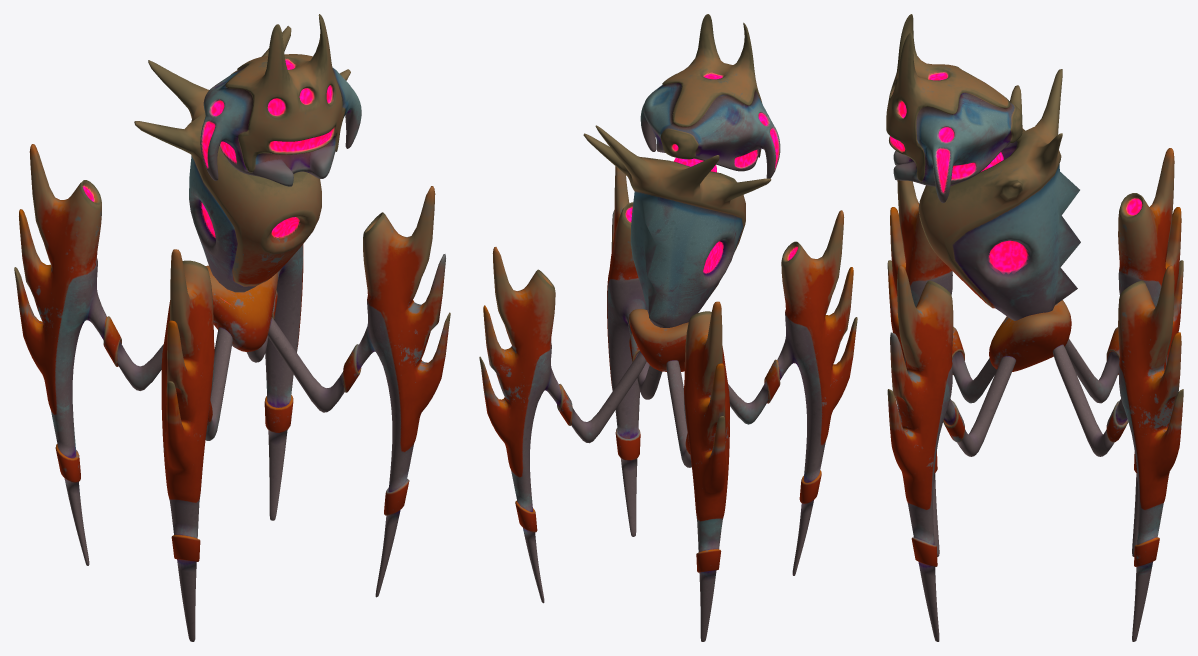
Rendered from v2rus_LOD_single.fbx.
The picture shows the model from 3 angles, left to right: view 1: azimuth 30°, elevation 25°; view 2: azimuth 150°, elevation 25°; view 3: azimuth 270°, elevation 25°; orthographic projection. The views are drawn at different scales.
Parts seen in each view (by area): view 1: v2rus_LOD0; view 2: v2rus_LOD0; view 3: v2rus_LOD0.
Boxes of the visible parts, x1=… form: v2rus_LOD0: x1=14, y1=14, x2=450, y2=641; v2rus_LOD0: x1=479, y1=14, x2=857, y2=641; v2rus_LOD0: x1=886, y1=14, x2=1183, y2=641.
Size of what is drawn, in the model's own units: 112 by 232 by 109.
